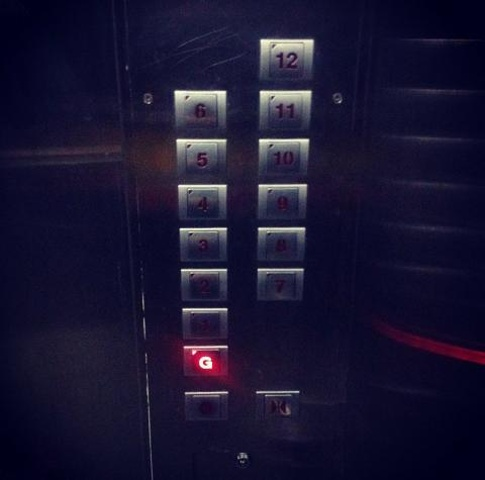1: (182, 307, 227, 344)
10: (258, 135, 310, 179)
11: (258, 87, 312, 131)
12: (259, 38, 314, 83)
2: (180, 268, 228, 306)
3: (177, 225, 227, 267)
4: (176, 184, 227, 224)
5: (175, 139, 228, 175)
6: (174, 90, 227, 133)
7: (256, 266, 304, 303)
8: (256, 226, 306, 266)
9: (259, 185, 308, 224)
G: (182, 345, 229, 378)
blur: (181, 389, 230, 424)
close: (252, 388, 300, 426)
